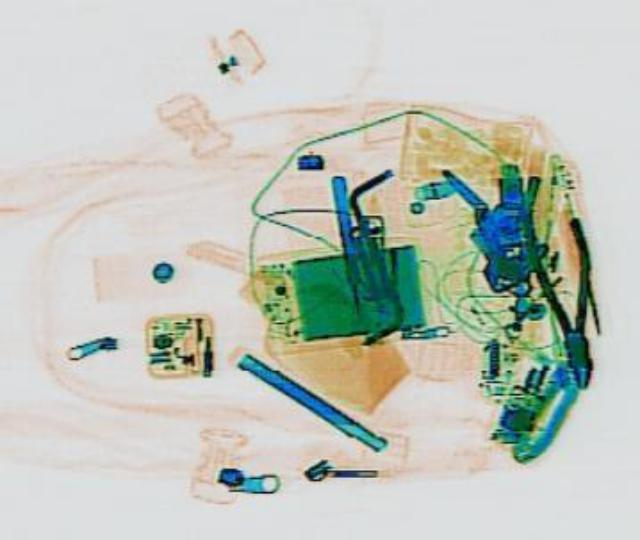Pliers: (511, 169, 611, 389)
